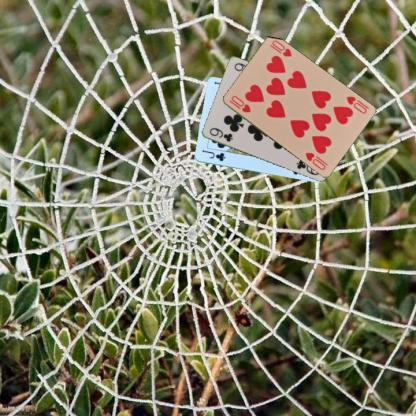10h: (343, 94, 368, 116), (226, 93, 252, 114)
9c: (207, 126, 234, 144)
Jc: (199, 148, 226, 162)
